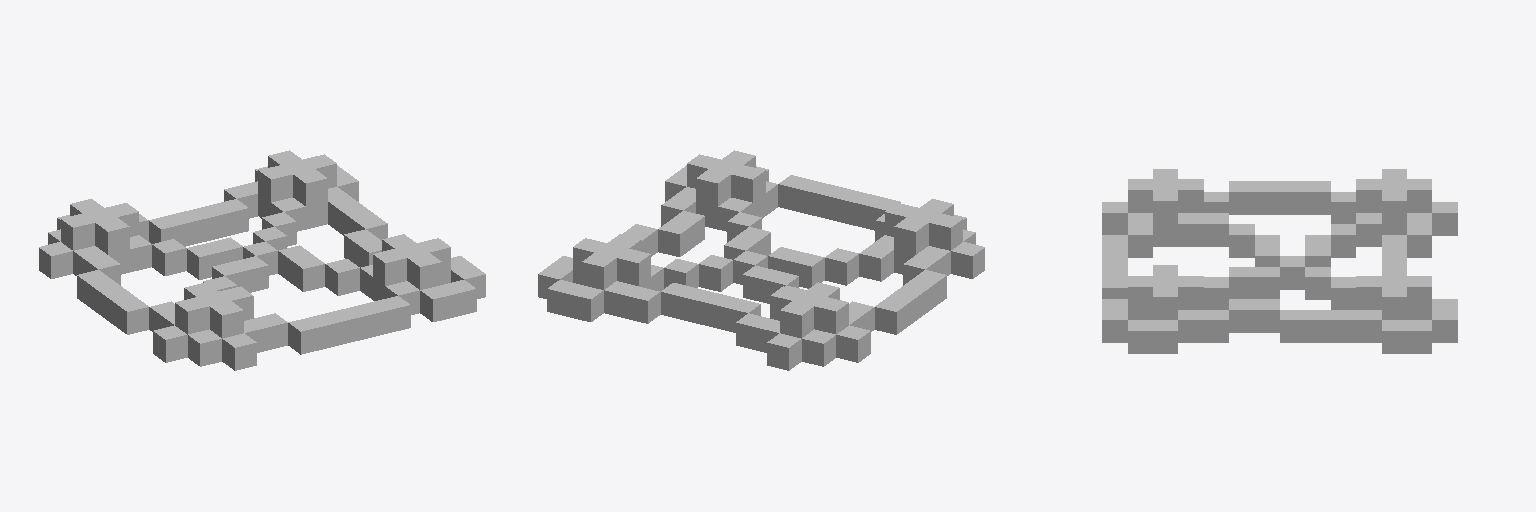
Rendered from trapworks_strings_string_ground.obj.
3 views of the same model, side by side, from view 1: azimuth 30°, elevation 25°; view 2: azimuth 150°, elevation 25°; view 3: azimuth 270°, elevation 25° (orthographic).
Parts seen in each view (by area): view 1: node_0_0_0; view 2: node_0_0_0; view 3: node_0_0_0.
Boxes of the visible parts, x1,y1,x2,y2 form: node_0_0_0: [39, 150, 485, 370]; node_0_0_0: [538, 150, 984, 370]; node_0_0_0: [1102, 169, 1457, 353].
Size of the model in its own units: 0.875 by 0.125 by 0.875.